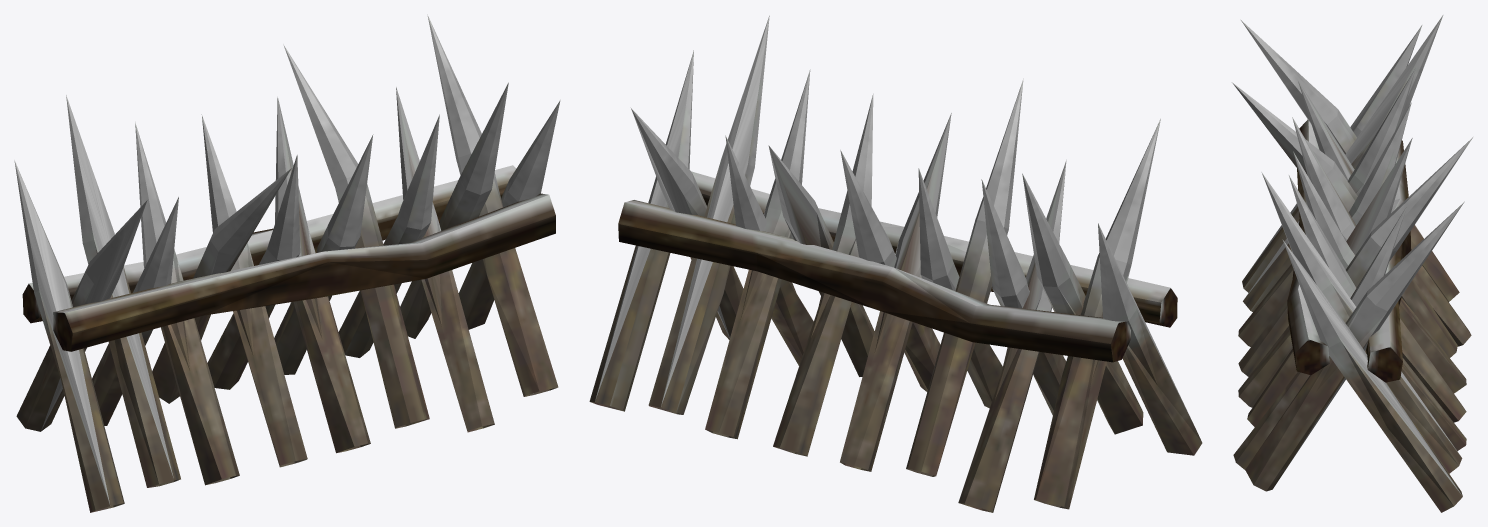
The picture shows the model from 3 angles, left to right: view 1: azimuth 30°, elevation 25°; view 2: azimuth 150°, elevation 25°; view 3: azimuth 270°, elevation 25°; orthographic projection. The views are drawn at different scales.
Visible parts, largest first — view 1: Box01; view 2: Box01; view 3: Box01.
Part boxes in pixels (bbox=[...]): Box01: bbox=[14, 14, 560, 512]; Box01: bbox=[589, 15, 1202, 512]; Box01: bbox=[1232, 15, 1472, 512].
Size of the model in its own units: 3.52 by 2.32 by 1.6.
